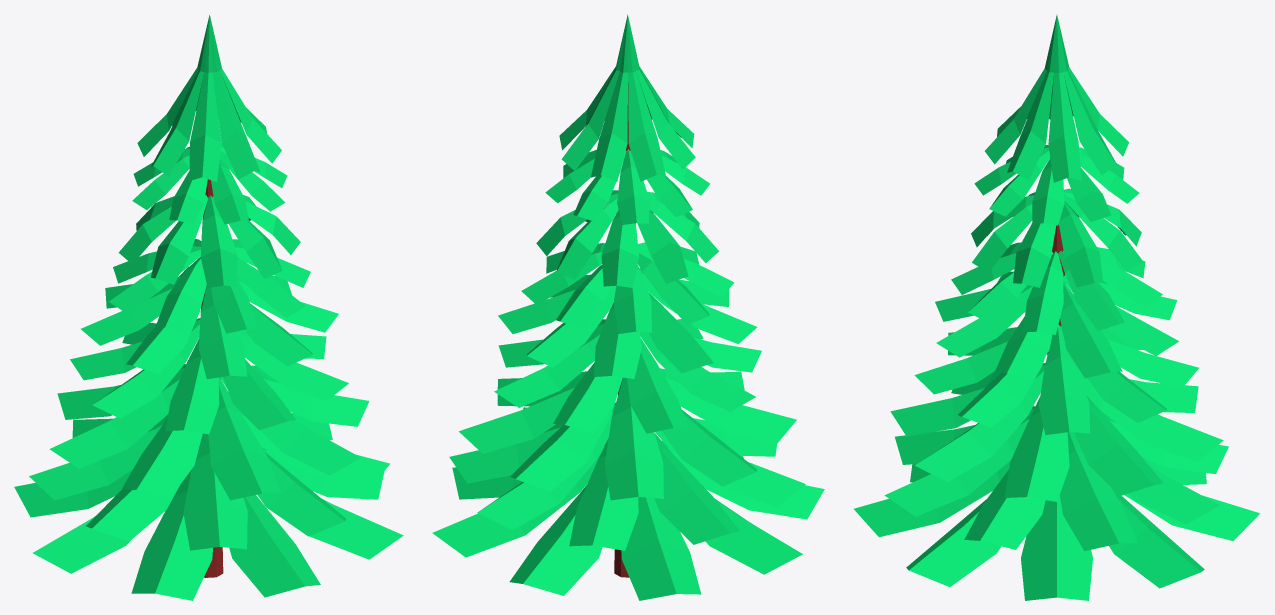
The model's file is Fir_Tree.fbx.
The picture shows the model from 3 angles, left to right: view 1: azimuth 30°, elevation 25°; view 2: azimuth 150°, elevation 25°; view 3: azimuth 270°, elevation 25°; orthographic projection.
Parts seen in each view (by area): view 1: Fir-tree; view 2: Fir-tree; view 3: Fir-tree.
Boxes of the visible parts, <box> form: Fir-tree: <box>14,15,403,600</box>; Fir-tree: <box>432,14,824,600</box>; Fir-tree: <box>854,15,1259,600</box>.
Size of the model in its own units: 377 by 571 by 377.
